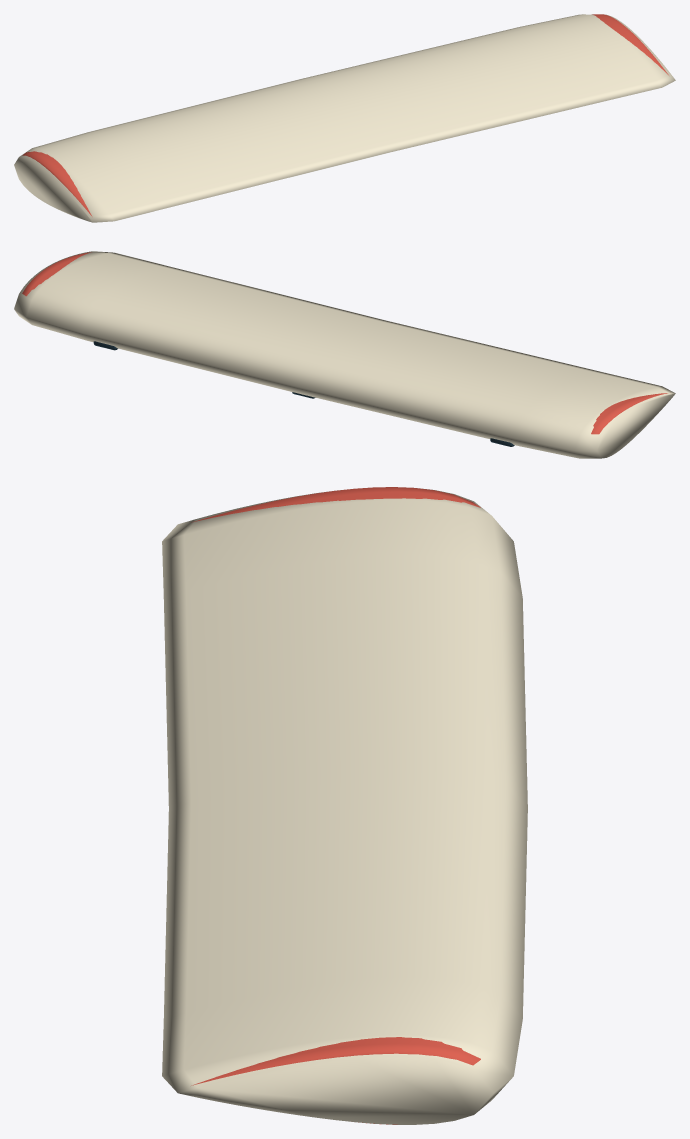
Rendered from elevator.glb.
The picture shows the model from 3 angles, top to bottom: view 1: azimuth 30°, elevation 25°; view 2: azimuth 150°, elevation 25°; view 3: azimuth 270°, elevation 25°; orthographic projection. The views are drawn at different scales.
Visible parts, largest first — view 1: Flap.001_Ivory, Flap.001_Paint; view 2: Flap.001_Ivory, Flap.001_Paint; view 3: Flap.001_Ivory, Flap.001_Paint.
Boxes of the visible parts, <box> form: Flap.001_Ivory: <box>14,14,675,222</box>; Flap.001_Paint: <box>22,14,668,216</box>; Flap.001_Ivory: <box>14,251,675,458</box>; Flap.001_Paint: <box>22,252,667,434</box>; Flap.001_Ivory: <box>162,488,527,1124</box>; Flap.001_Paint: <box>191,487,480,1124</box>.
Bounding box in the file's own units: 1.5 × 0.0961 × 0.4076.
